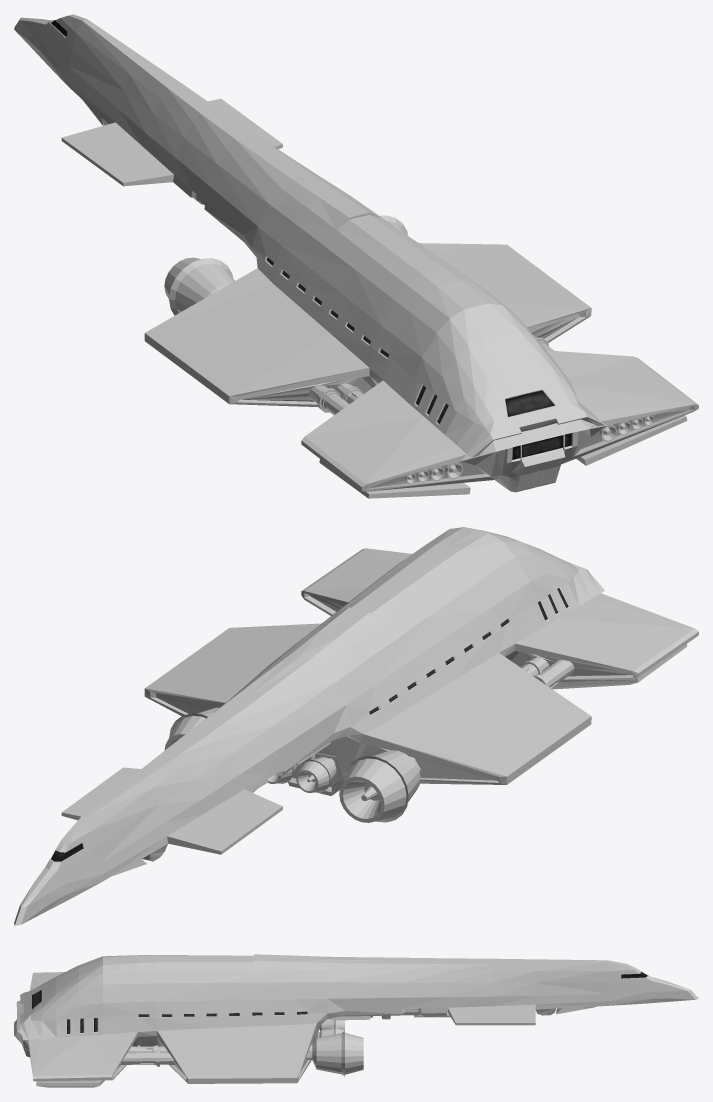
Rendered from hutt_transport_l0.fbx.
3 views of the same model, one above another, from view 1: azimuth 30°, elevation 25°; view 2: azimuth 150°, elevation 25°; view 3: azimuth 270°, elevation 25° (orthographic). The views are drawn at different scales.
Visible parts, largest first — view 1: mesh_node; view 2: mesh_node; view 3: mesh_node.
Part boxes in pixels (x1=…): mesh_node: x1=14, y1=14, x2=698, y2=498; mesh_node: x1=14, y1=527, x2=698, y2=925; mesh_node: x1=14, y1=954, x2=698, y2=1087.
Size of the model in its own units: 36.86 by 14.14 by 93.5.
